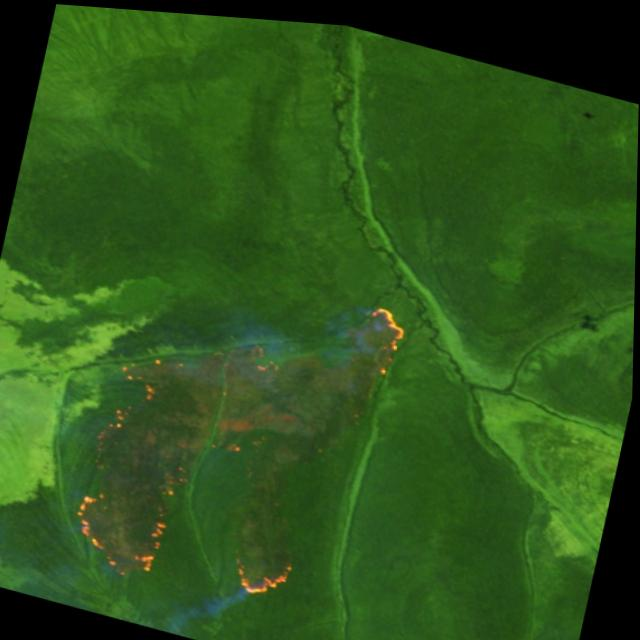fire: (59, 231, 420, 632)
